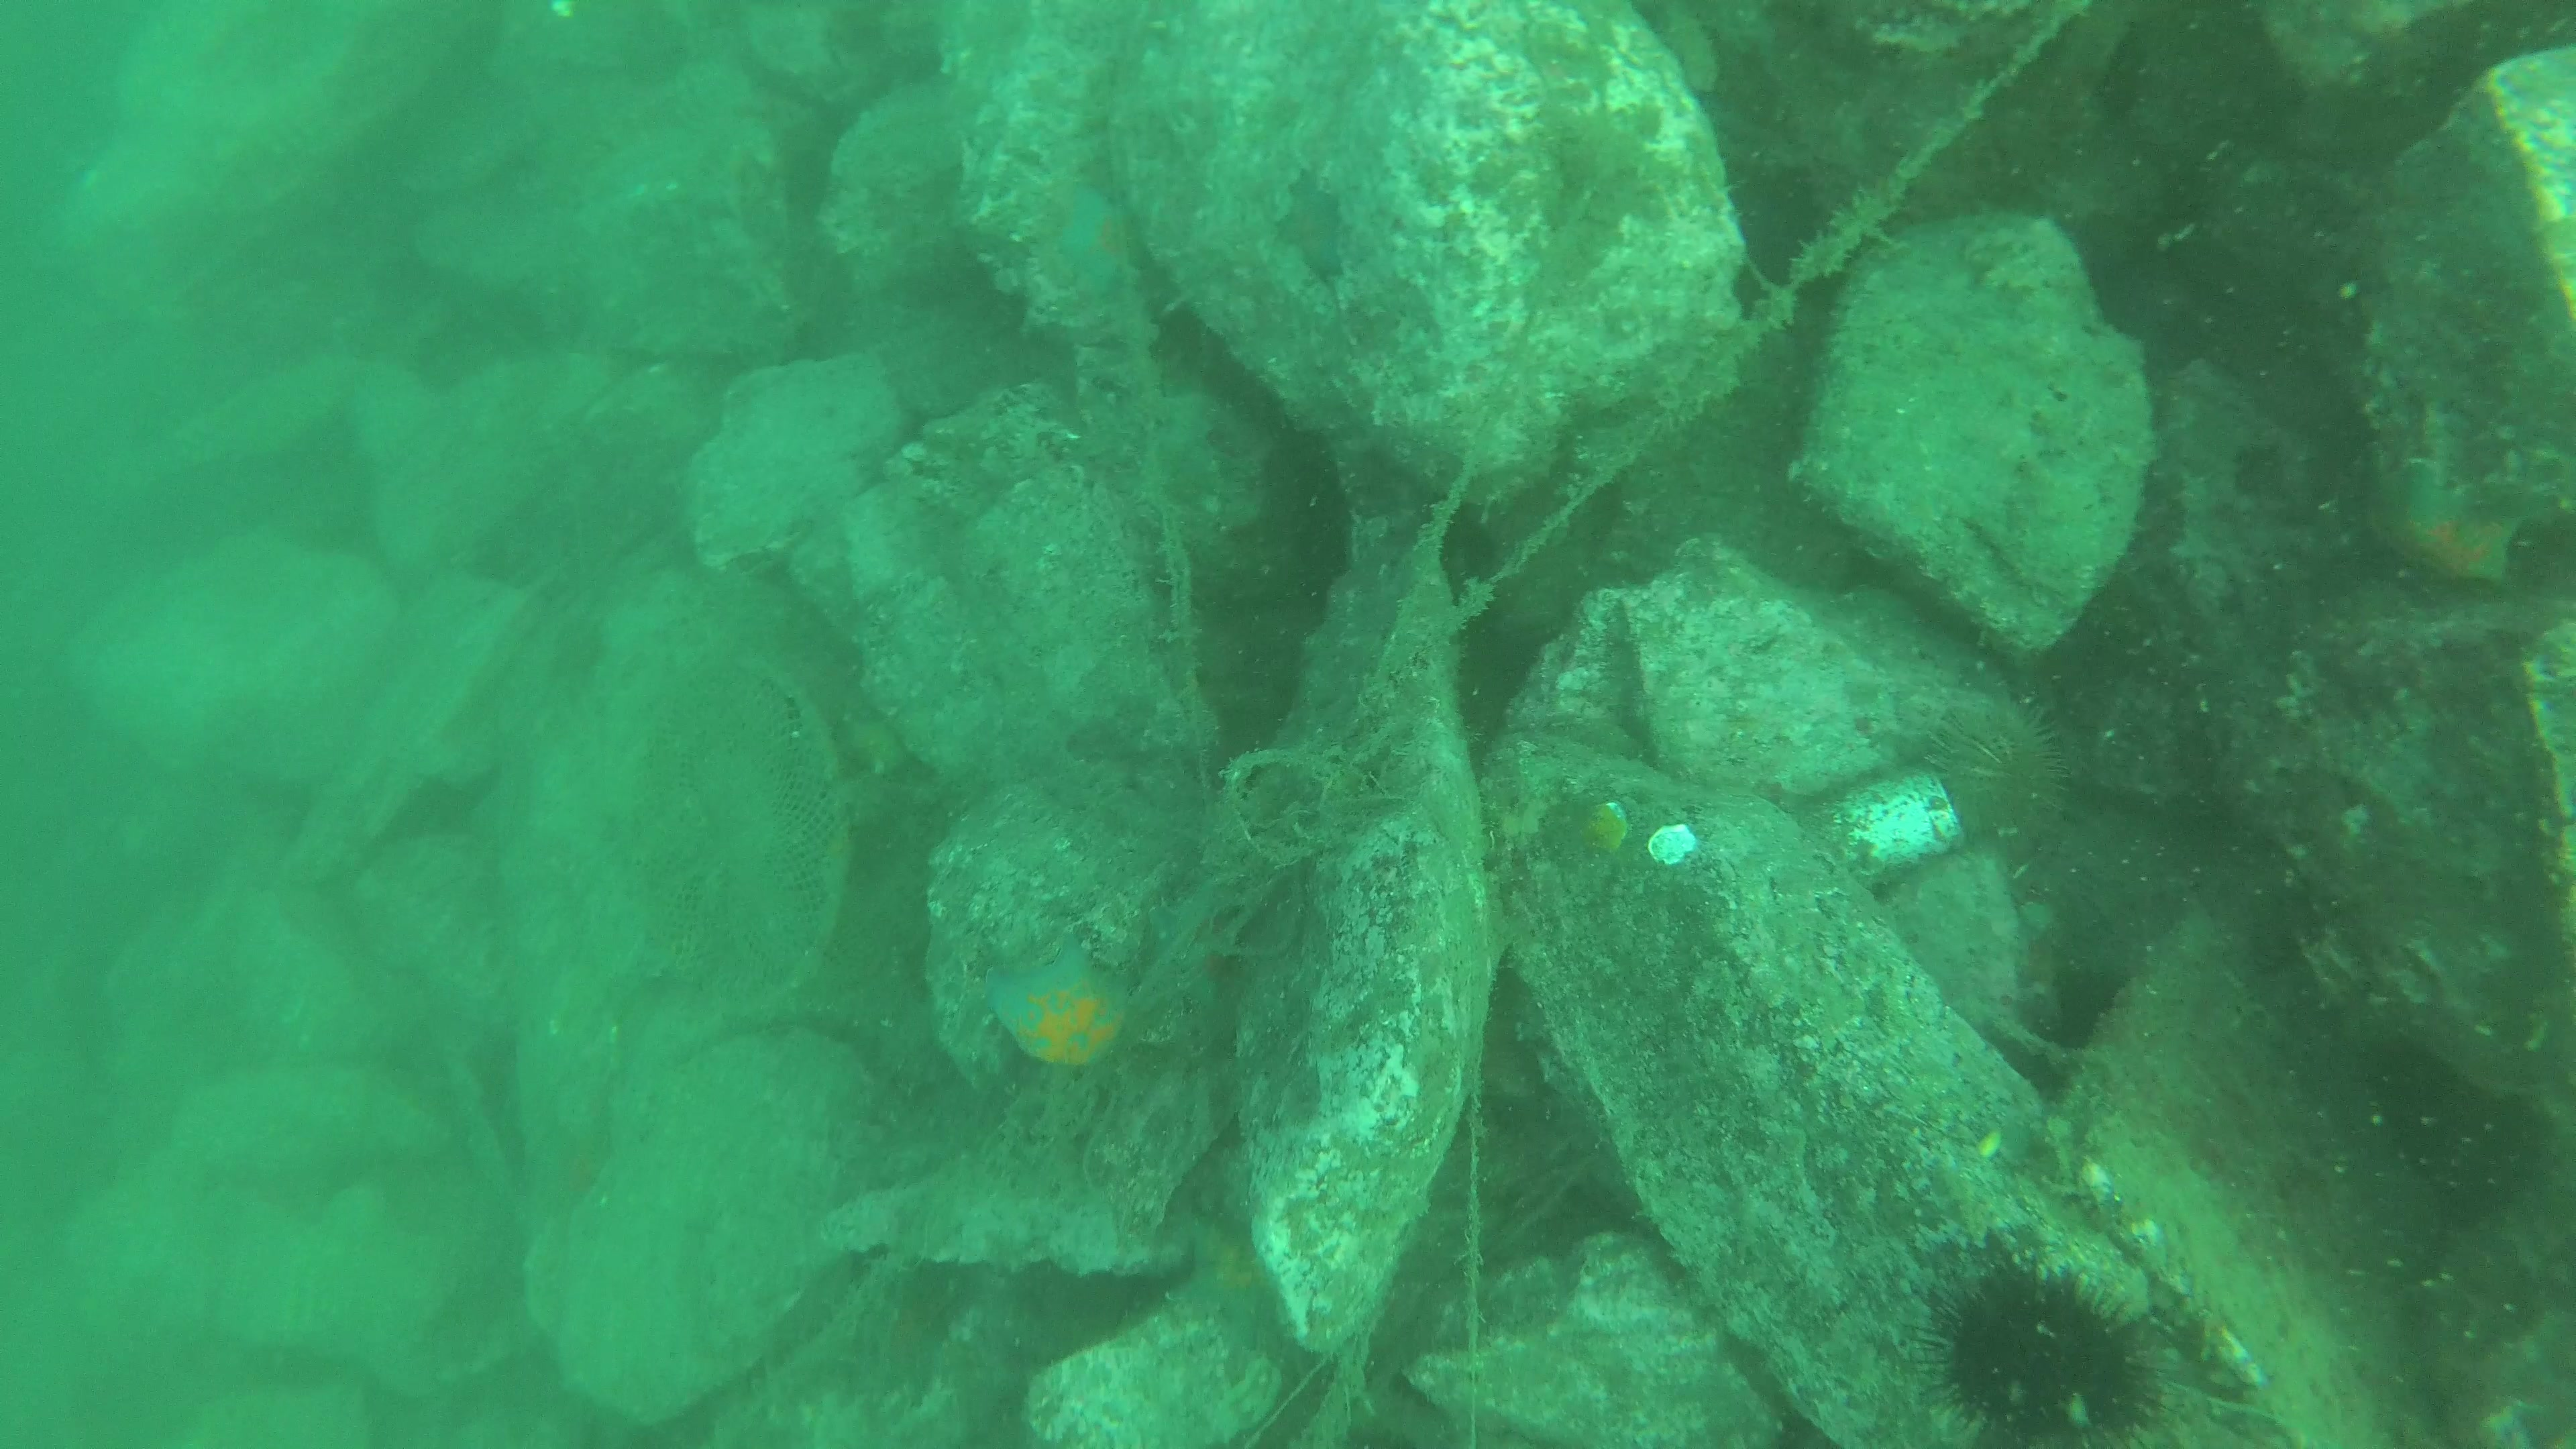echinus: (1907, 1237, 2176, 1449), (1923, 669, 2093, 869)
starfish: (1143, 1219, 1313, 1380), (980, 948, 1146, 1092), (2353, 465, 2521, 605), (1049, 175, 1157, 311)
